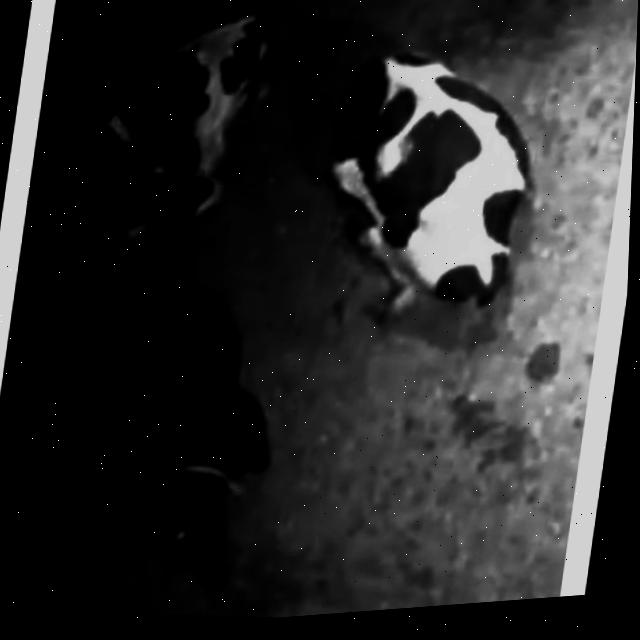lay: (291, 18, 566, 346), (57, 261, 296, 607), (39, 0, 294, 281)
